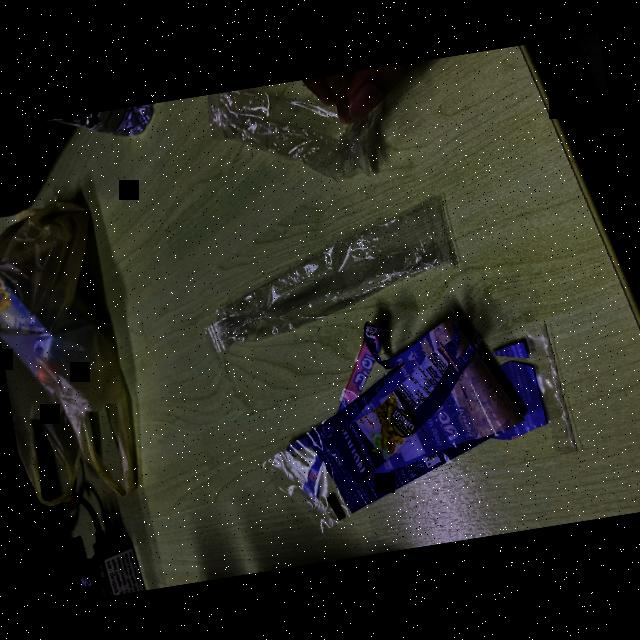scrap_plastic: (252, 298, 606, 553), (190, 204, 473, 364), (198, 68, 394, 201)
